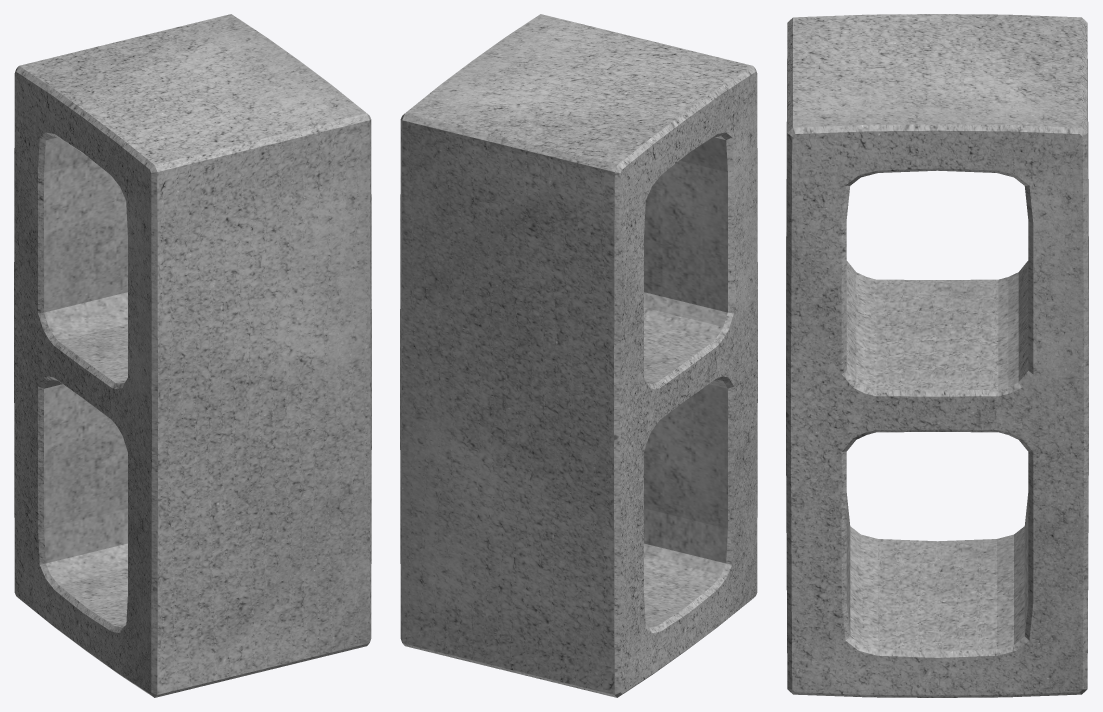
The model's file is block.obj.
3 renders of one model, left to right at view 1: azimuth 30°, elevation 25°; view 2: azimuth 150°, elevation 25°; view 3: azimuth 270°, elevation 25°, orthographic. The views are drawn at different scales.
Visible parts, largest first — view 1: Object_TexMap_0; view 2: Object_TexMap_0; view 3: Object_TexMap_0.
Part boxes in pixels (<box>): Object_TexMap_0: <box>14,14,371,697</box>; Object_TexMap_0: <box>400,14,757,697</box>; Object_TexMap_0: <box>786,14,1088,697</box>.
Bounding box in the file's own units: 1.07 × 2.5 × 1.2.
Materials: 1 (1 with a texture image).
